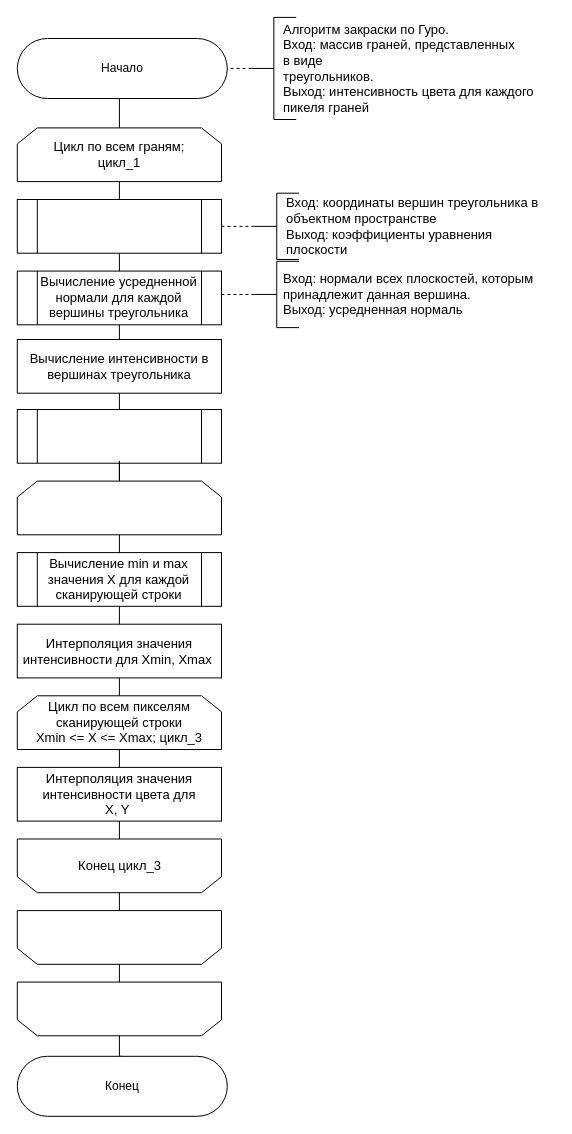
Some shapes in this 572 by 1134 pixel diagram are drawn without their labels. The centre of each missing label's shape, as x and y in pixels:
"Вычисление min и max значения Y для грани в пространстве изображения" belongs at point 119,435.
"Вычисление нормали к грани треугольника" belongs at point 119,225.
"Конец цикл_1" belongs at point 119,1008.
"Конец цикл_2" belongs at point 119,937.
"Цикл по всем сканирующим строками при Ymin <= Y <= Ymax; цикл_2" belongs at point 119,507.
